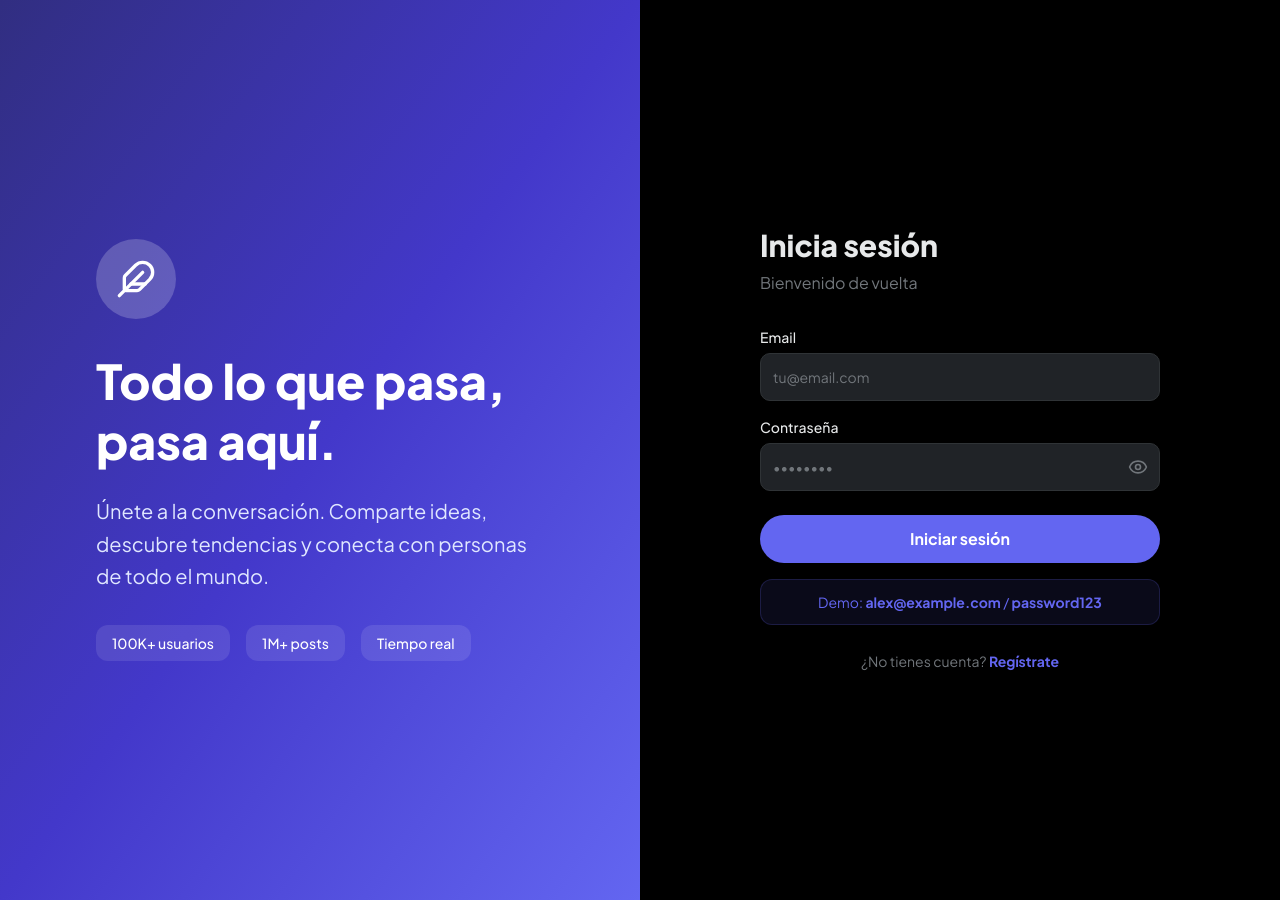
Test case: Login page › switches to register mode and shows extra fields
Step 1. Click the button "Regístrate" → point(1024, 661), box 989,651 -> 1059,671
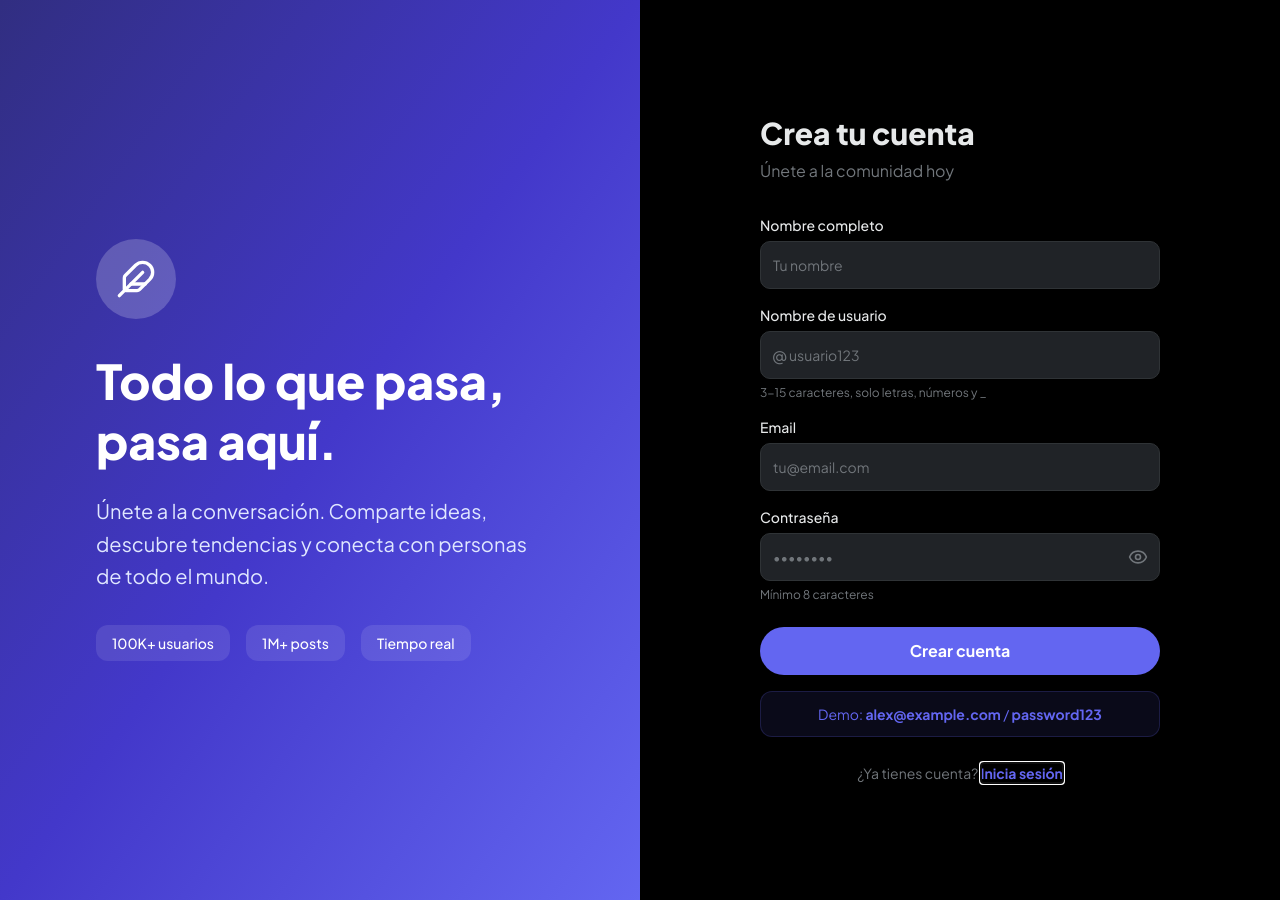
Result: the heading "Crea tu cuenta" is shown at 760,114 -> 975,152
Result: the field with placeholder "Tu nombre" is shown at 760,241 -> 1160,289
Result: the field with placeholder "usuario123" is shown at 760,331 -> 1160,379
